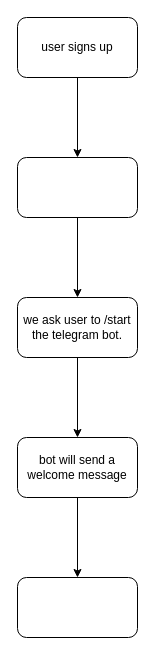
The diagram is 155 pixels wide and 655 high, and some of its shapes have lost their labels. Here are the shapes that lost their labels. From the top down, the centre of each, then its label:
At point 77,187: "we ask for the user's telegram username on whale watcher and store it in db.".
At point 77,607: "we store the user's chat_id in the db by matching the user with the username".
